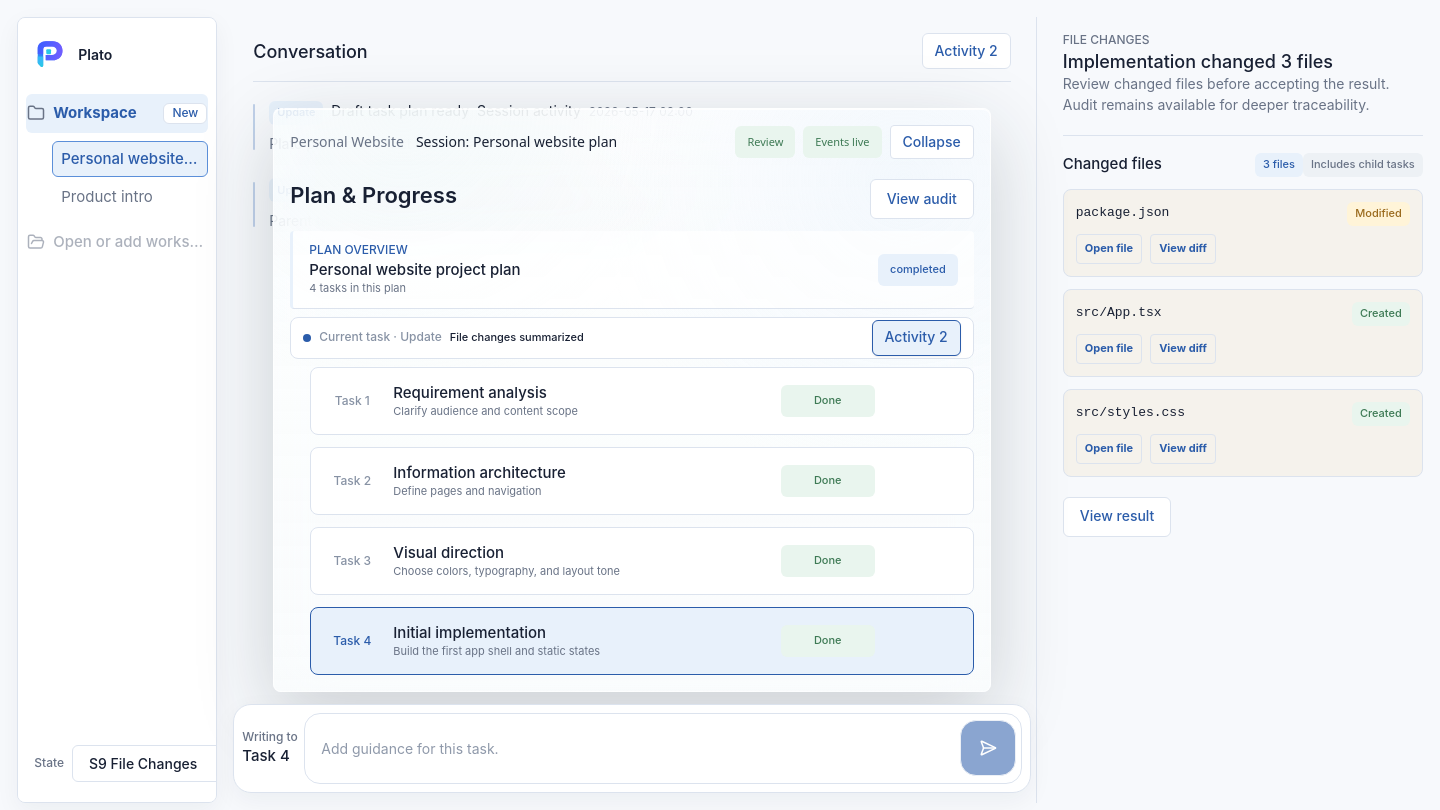
Test: App › toggles between file changes and result detail views
This screenshot has width=1440, height=810.
expect the text "Changed files" is shown: met, box [1063,154,1162,174]
expect the text "3 files" is shown: met, box [1255,153,1303,177]
Click the button "View result" at x=1117, y=517, box [1063,497,1171,537]
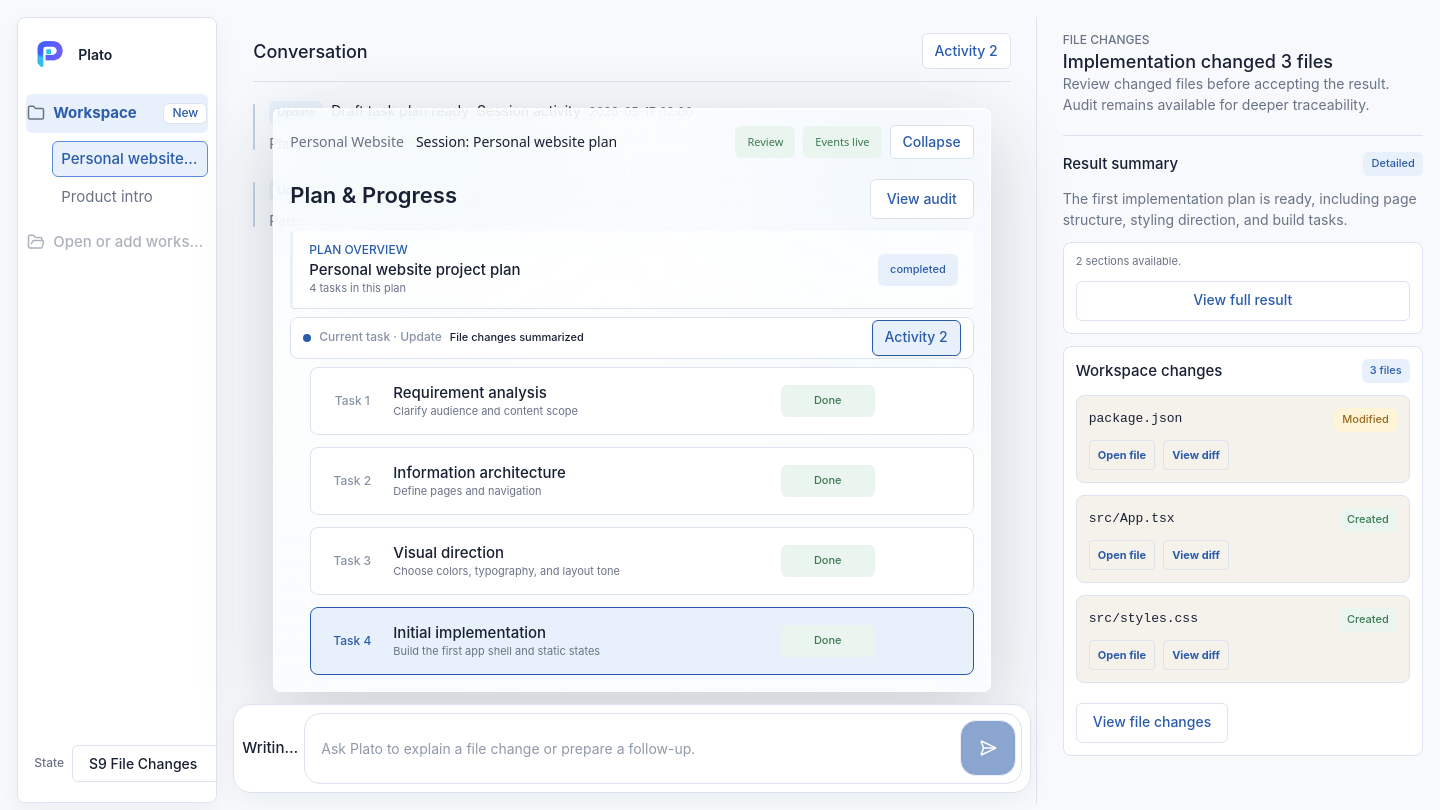
expect the text "Delivered structure" is not shown: met
expect the text "Result summary" is shown: met, box [1063,154,1178,174]
expect the text "The first implementation plan is ready, including page structure, styling direction, and build tasks." is shown: met, box [1063,190,1417,228]
Click the button "View full result" at x=1243, y=301, box [1076,281,1410,321]
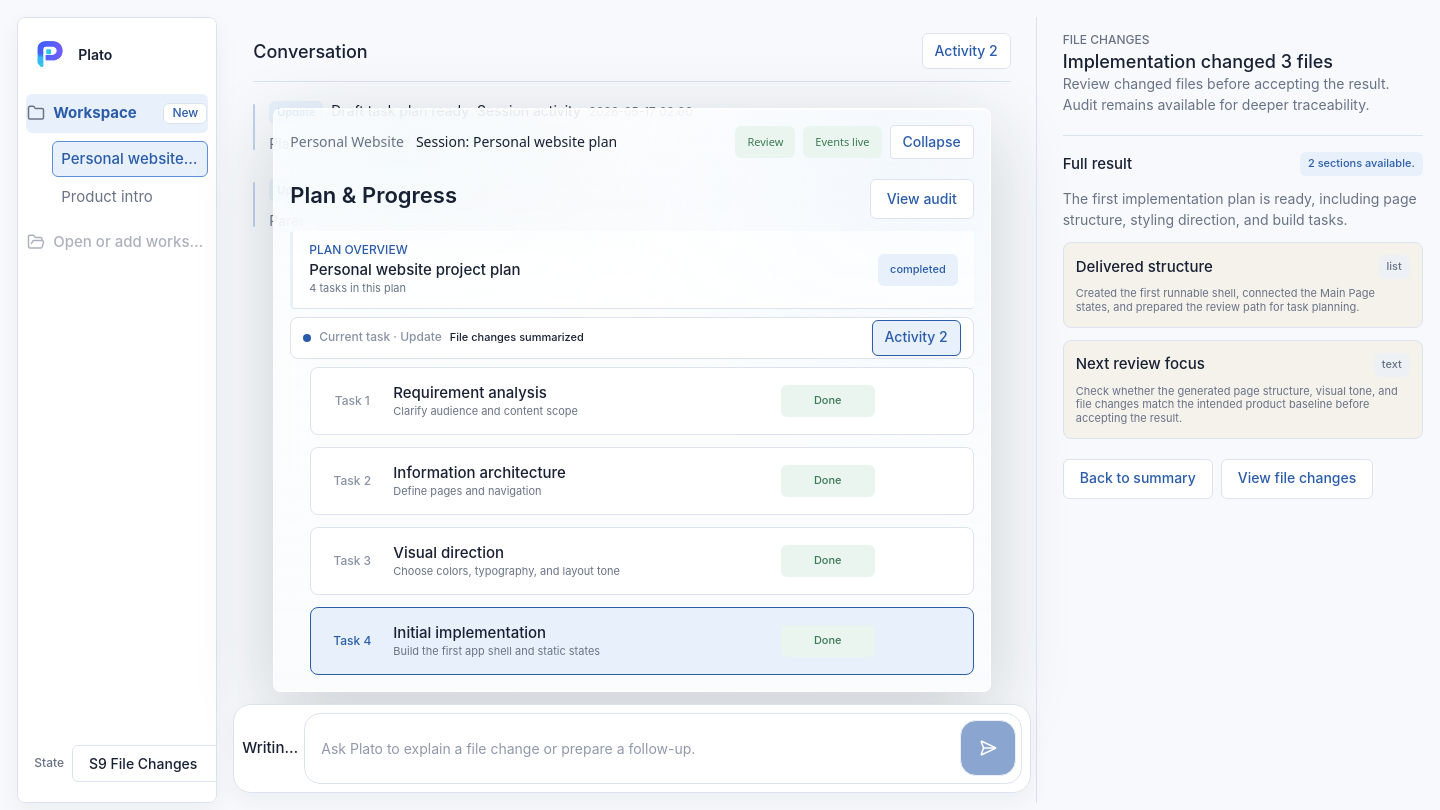
expect the element labelled "Full result" is shown: met, box [1063,135,1423,499]
expect the text "Delivered structure" is shown: met, box [1076,257,1213,277]
